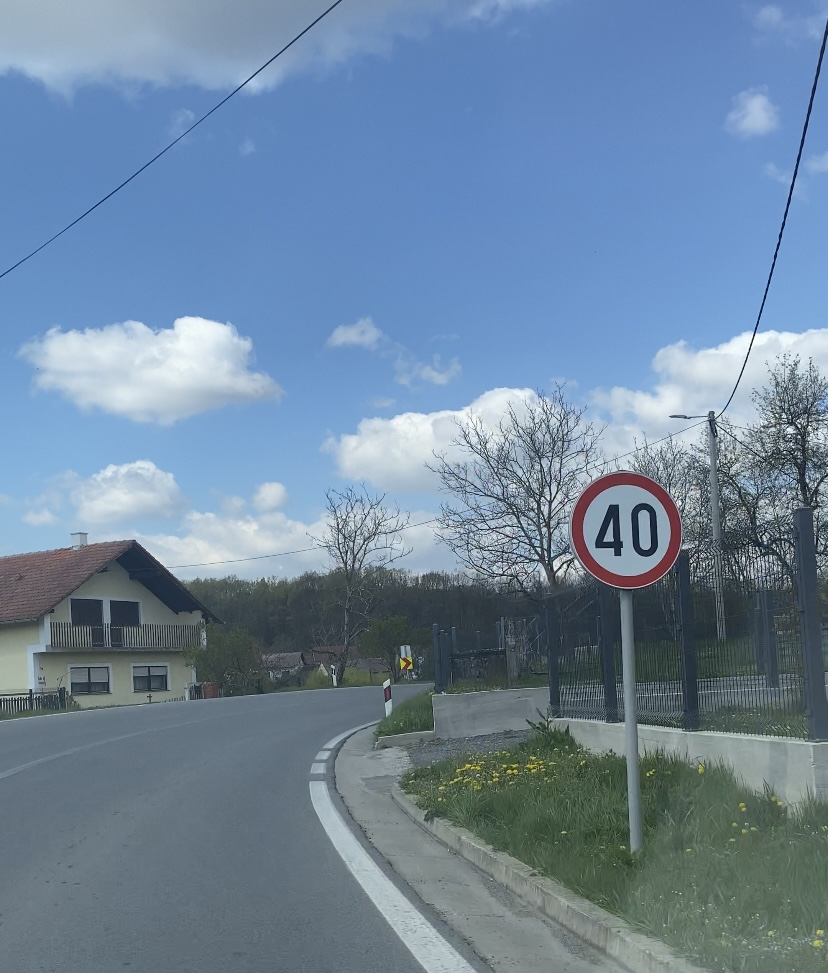Ograničenje brzine 40: (569, 471, 683, 589)
